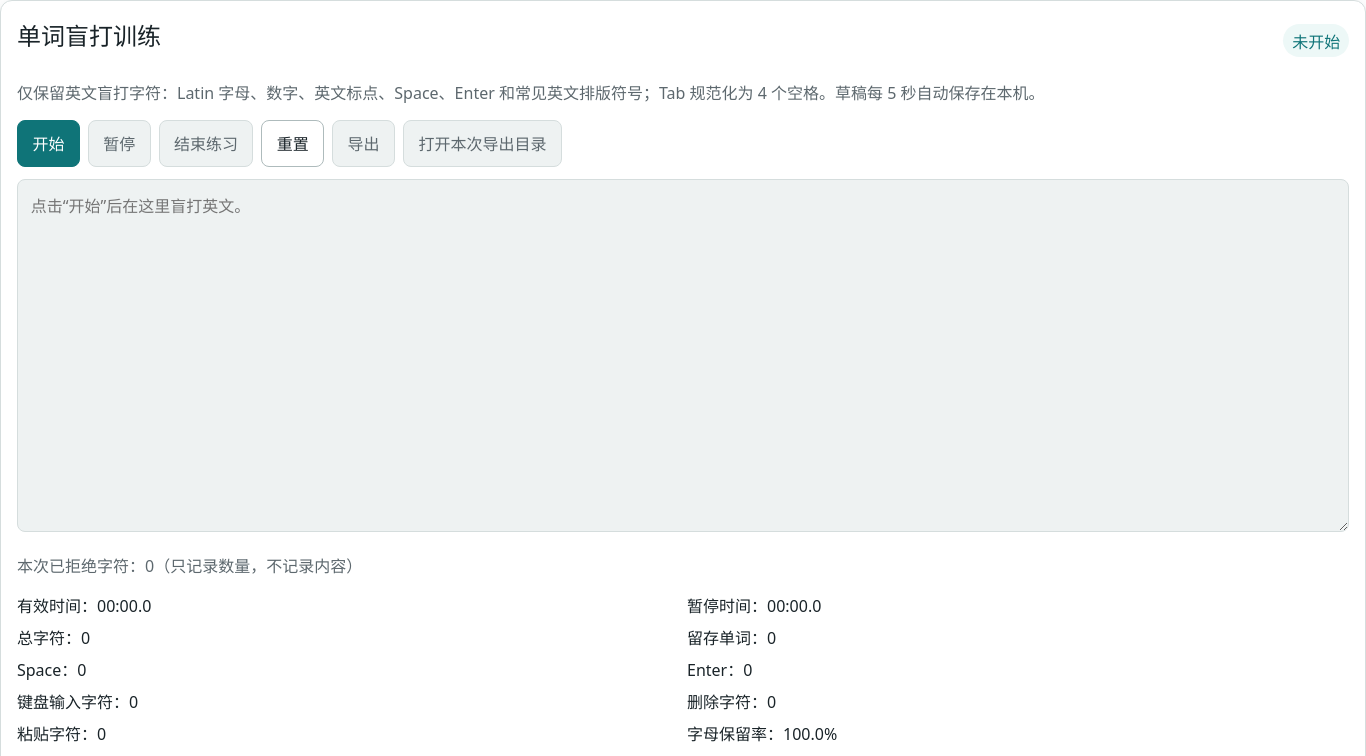
Test: typing practice UI › filters mixed input without truncating later English characters
The image size is (1366, 756).
Click the button "开始" at coordinates (48, 143), box [17,120,80,167]
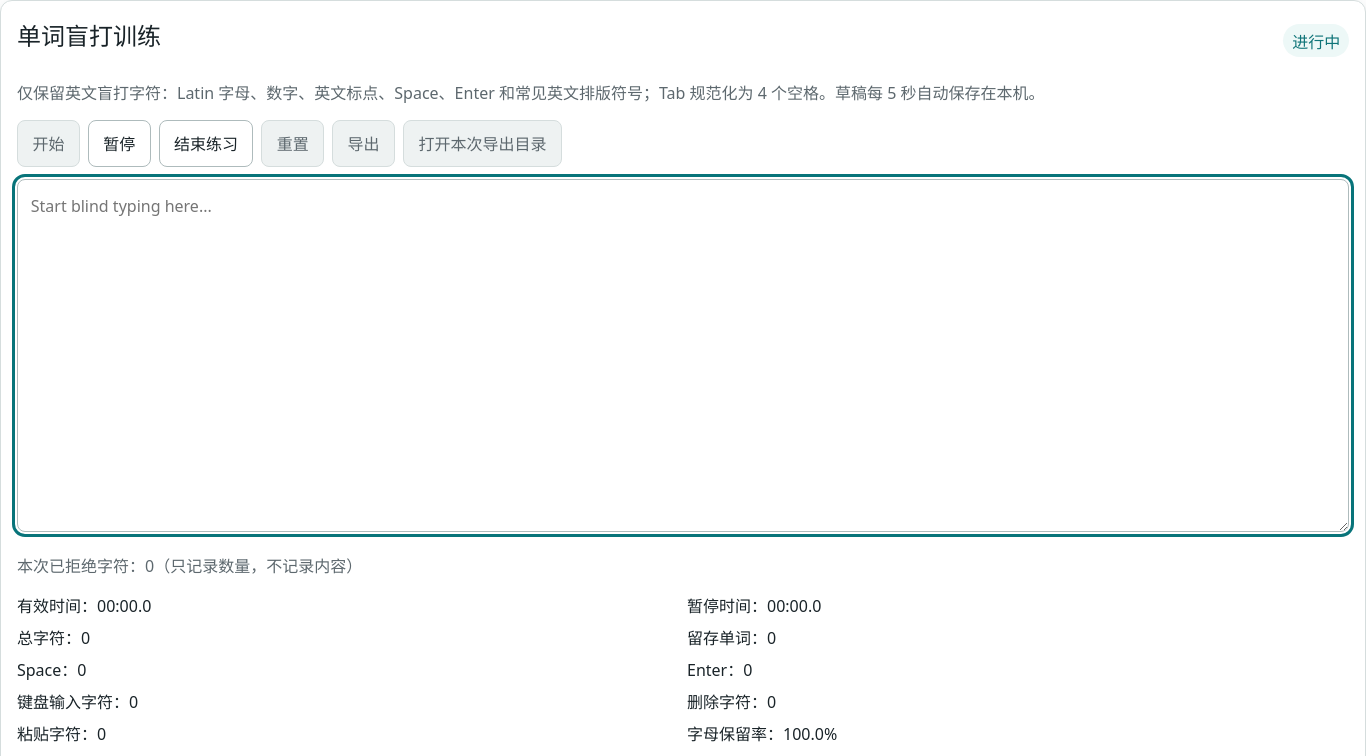
Type "before 中🙂 after!" into the text box named "单词盲打输入区" at coordinates (683, 355), box [17,179,1349,532]
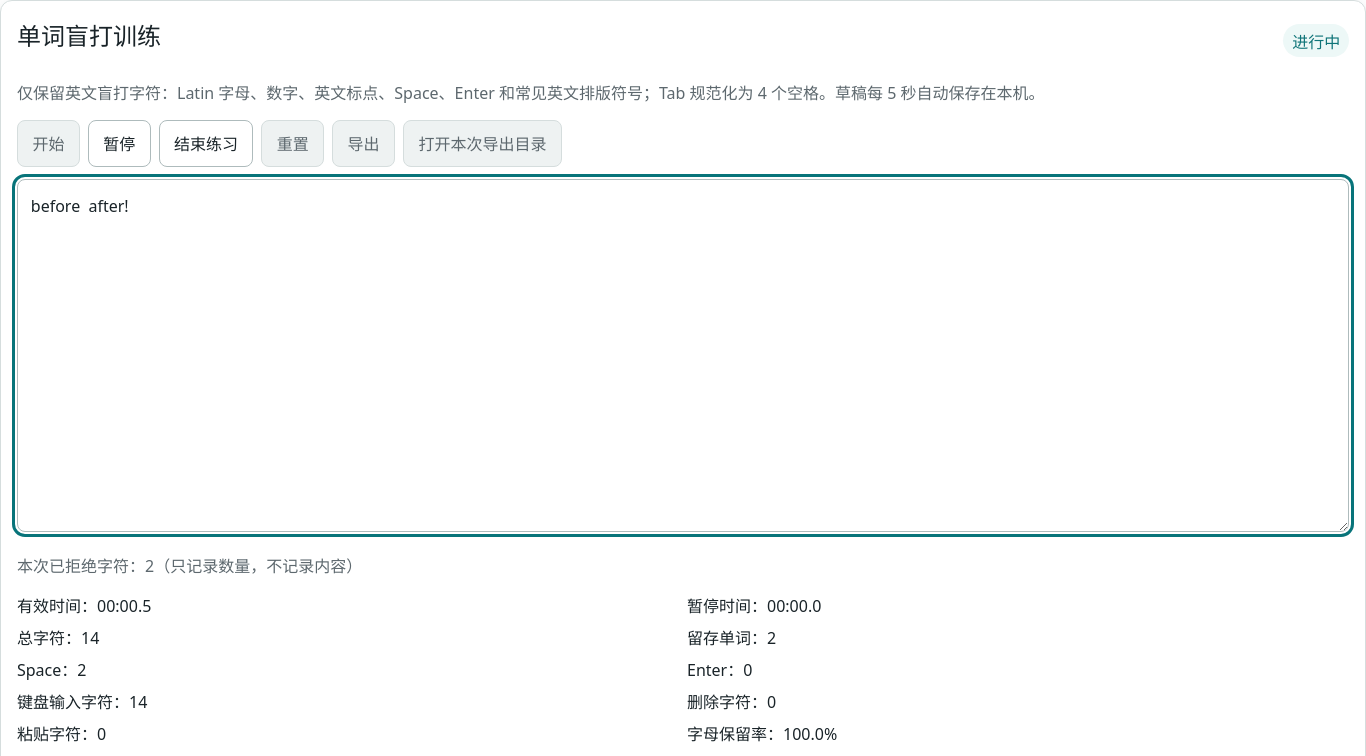
Check: the text box named "单词盲打输入区" holds "before  after!", box [17,179,1349,532]
Check: the text "本次已拒绝字符：2（只记录数量，不记录内容）" is shown, box [17,555,362,577]
